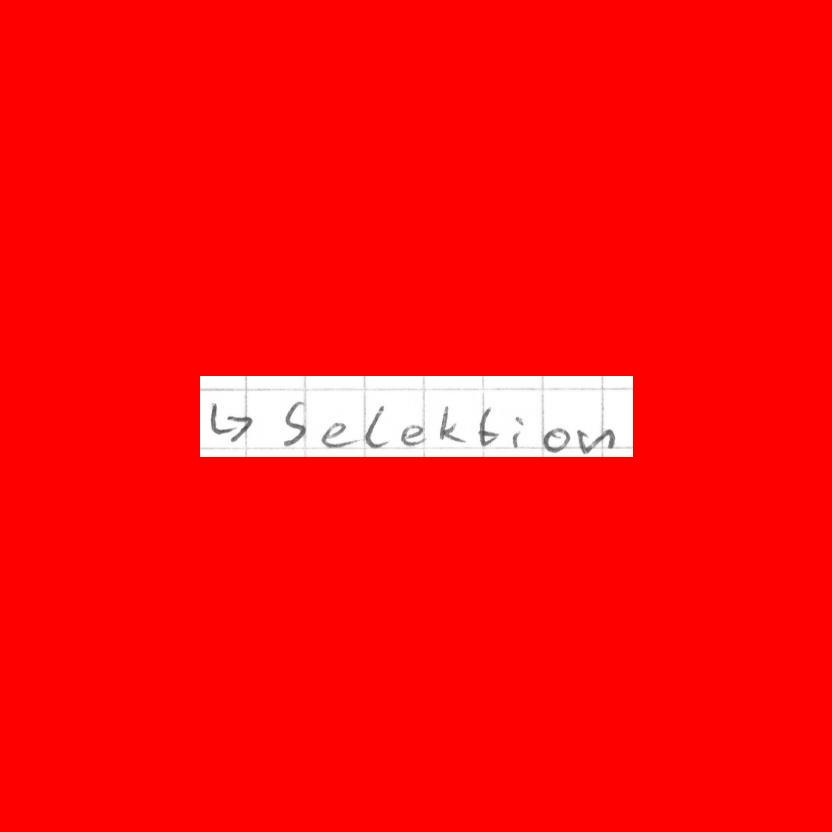Char: (202, 398, 258, 445), (280, 395, 311, 452), (361, 401, 394, 452), (319, 416, 360, 450), (435, 403, 467, 445), (575, 424, 616, 456), (474, 405, 503, 448), (540, 424, 570, 455), (399, 422, 427, 449), (510, 414, 526, 450)
